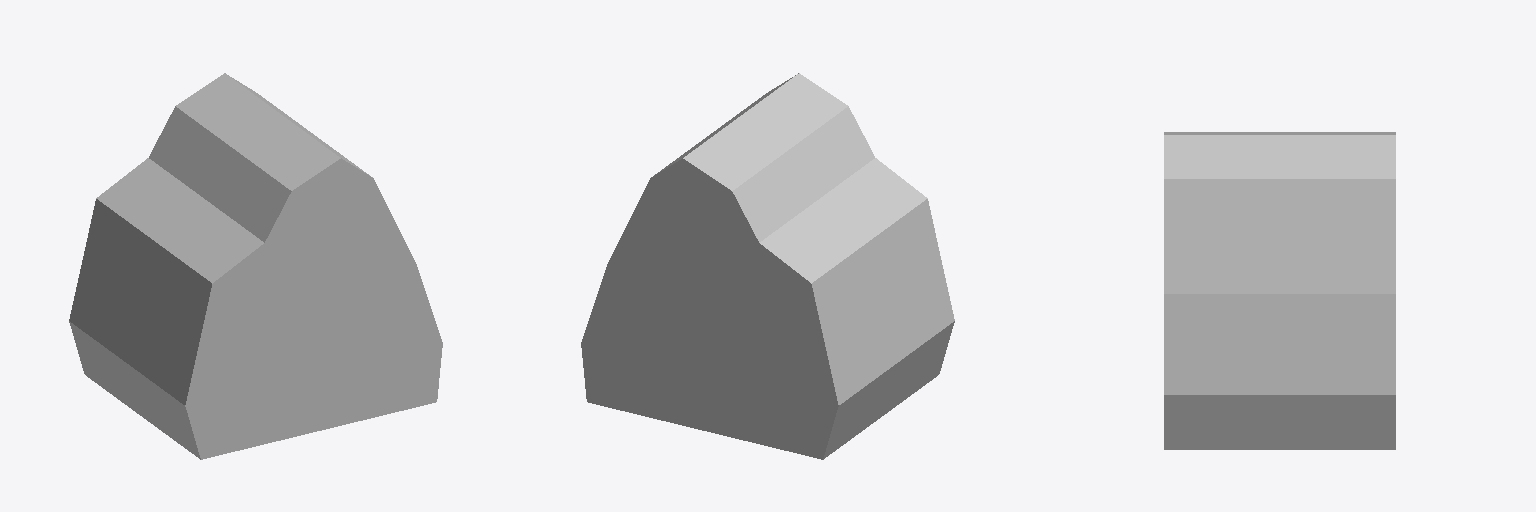
Rendered from roughrock.obj.
3 views of the same model, side by side, from view 1: azimuth 30°, elevation 25°; view 2: azimuth 150°, elevation 25°; view 3: azimuth 270°, elevation 25° (orthographic).
Visible parts, largest first — view 1: Cube.001_Cube.006; view 2: Cube.001_Cube.006; view 3: Cube.001_Cube.006.
Boxes of the visible parts, x1,y1,x2,y2 form: Cube.001_Cube.006: [69, 73, 442, 459]; Cube.001_Cube.006: [581, 73, 954, 459]; Cube.001_Cube.006: [1164, 132, 1395, 449].
Size of the model in its own units: 1.25 by 1.24 by 0.9748.